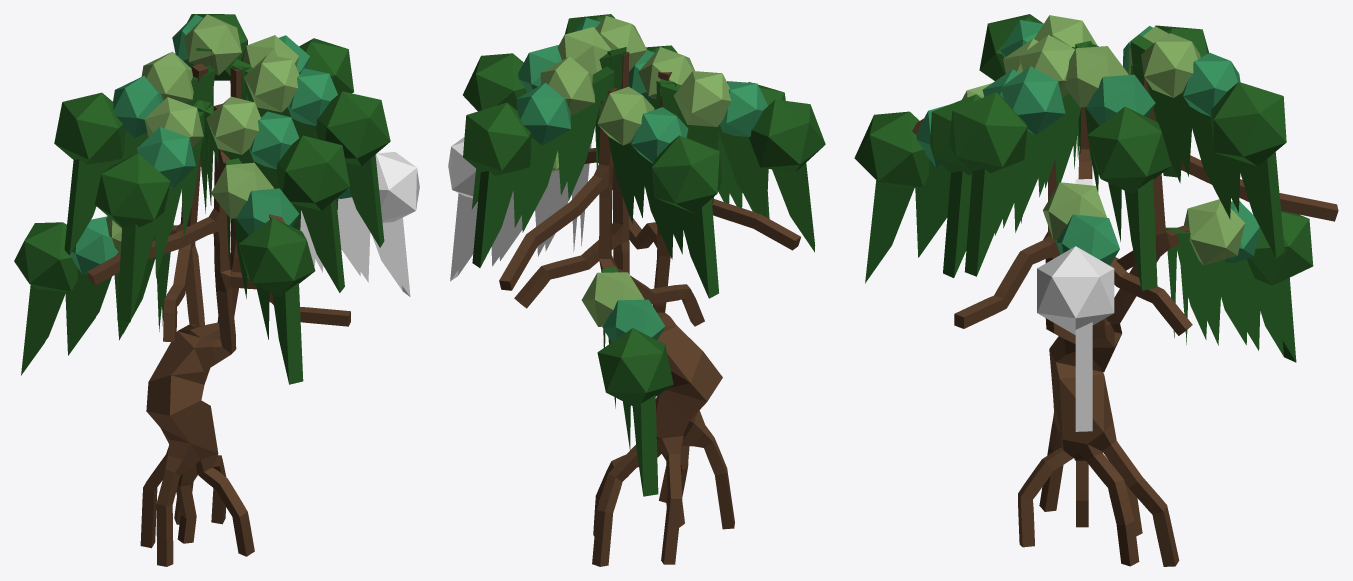
File: Swamp_Tree_Big.fbx
3 views of the same model, side by side, from view 1: azimuth 30°, elevation 25°; view 2: azimuth 150°, elevation 25°; view 3: azimuth 270°, elevation 25° (orthographic). The views are drawn at different scales.
Visible parts, largest first — view 1: Icosphere.029, Cube.008, Cube.010, Icosphere.030, Icosphere.031, Cube.009, Icosphere.026; view 2: Cube.008, Cube.010, Icosphere.029, Icosphere.030, Icosphere.031, Cube.009, Icosphere.026; view 3: Cube.010, Icosphere.029, Cube.008, Icosphere.030, Icosphere.031, Icosphere.026, Icosphere.028, Cube.009.
Boxes of the visible parts, left/top/right/bottom form: Icosphere.029: left=14, top=14, right=390, bottom=297; Cube.008: left=87, top=63, right=350, bottom=566; Cube.010: left=21, top=48, right=384, bottom=384; Icosphere.030: left=106, top=14, right=299, bottom=253; Icosphere.031: left=70, top=14, right=337, bottom=274; Cube.009: left=300, top=197, right=410, bottom=296; Icosphere.026: left=375, top=152, right=419, bottom=222; Cube.008: left=499, top=51, right=800, bottom=566; Cube.010: left=471, top=47, right=815, bottom=496; Icosphere.029: left=463, top=14, right=825, bottom=408; Icosphere.030: left=540, top=15, right=731, bottom=326; Icosphere.031: left=516, top=17, right=767, bottom=341; Cube.009: left=450, top=144, right=591, bottom=281; Icosphere.026: left=448, top=137, right=476, bottom=198; Cube.010: left=865, top=34, right=1296, bottom=362; Icosphere.029: left=854, top=14, right=1313, bottom=285; Cube.008: left=912, top=77, right=1338, bottom=566; Icosphere.030: left=962, top=15, right=1244, bottom=265; Icosphere.031: left=916, top=20, right=1260, bottom=265; Icosphere.026: left=1037, top=246, right=1114, bottom=334; Icosphere.028: left=1056, top=214, right=1119, bottom=265; Cube.009: left=1075, top=179, right=1092, bottom=431.
Bounding box in the file's own units: 946 × 1304 × 1052.
